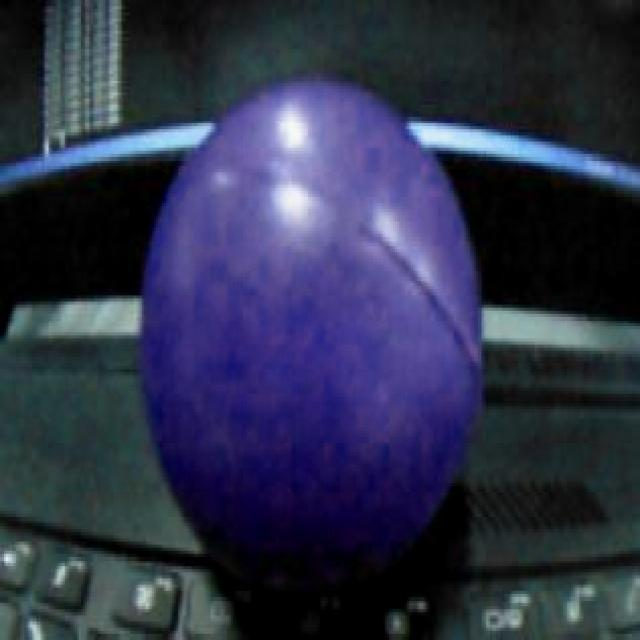BallPurple: (141, 76, 480, 571)
